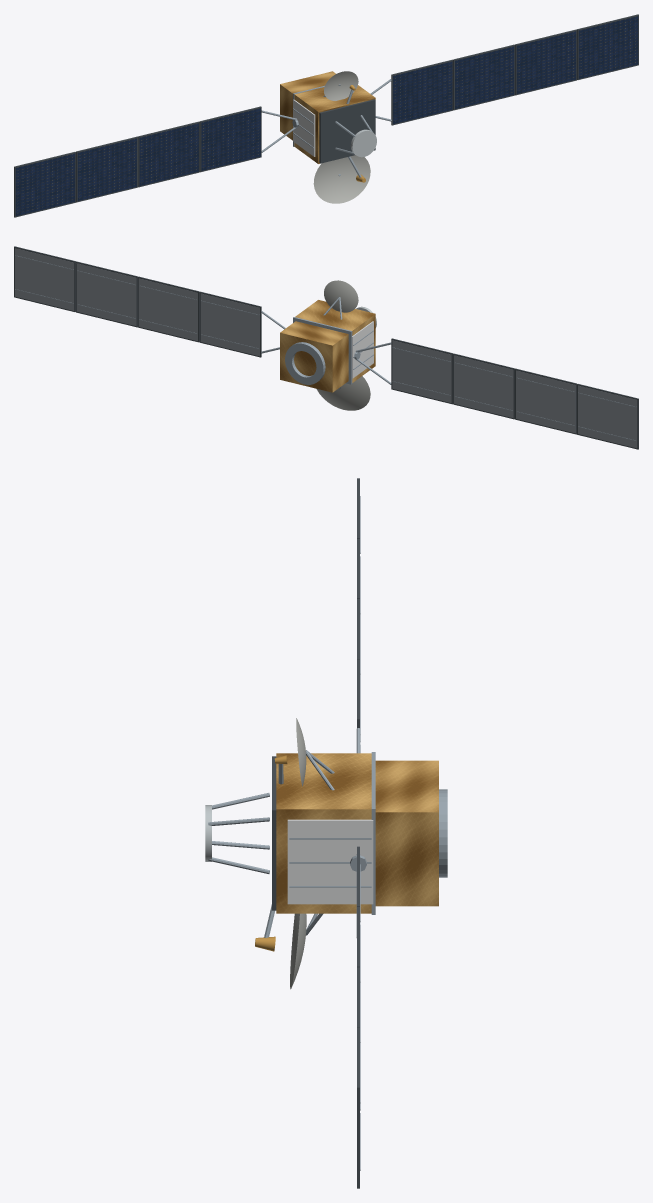
File: ssl-1300-intelsat-viia.glb
The picture shows the model from 3 angles, top to bottom: view 1: azimuth 30°, elevation 25°; view 2: azimuth 150°, elevation 25°; view 3: azimuth 270°, elevation 25°; orthographic projection. The views are drawn at different scales.
Parts seen in each view (by area): view 1: Solar cell panel (×8), Solar panel frame (×8), Communications reflector (×2), Earth-facing deck, Payload module, Service module, Radiator face, Antenna tower platform; view 2: Rear array substrate (×8), Solar panel frame (×8), Service module, Communications reflector (×2), Payload module, Launch adapter ring, Radiator face, Module interface; view 3: Service module, Payload module, Radiator face.
Part boxes in pixels (x1=…): Solar cell panel (×8): x1=15, y1=16, x2=638, y2=216; Solar panel frame (×8): x1=14, y1=14, x2=638, y2=217; Communications reflector (×2): x1=313, y1=71, x2=370, y2=203; Earth-facing deck: x1=319, y1=99, x2=375, y2=163; Payload module: x1=294, y1=85, x2=375, y2=163; Service module: x1=280, y1=71, x2=335, y2=140; Radiator face: x1=293, y1=99, x2=315, y2=156; Antenna tower platform: x1=350, y1=129, x2=376, y2=157; Rear array substrate (×8): x1=15, y1=248, x2=637, y2=448; Solar panel frame (×8): x1=14, y1=246, x2=638, y2=449; Service module: x1=280, y1=321, x2=348, y2=392; Communications reflector (×2): x1=316, y1=280, x2=370, y2=410; Payload module: x1=295, y1=300, x2=375, y2=382; Launch adapter ring: x1=285, y1=342, x2=325, y2=384; Radiator face: x1=352, y1=321, x2=373, y2=378; Module interface: x1=293, y1=317, x2=352, y2=384; Service module: x1=375, y1=760, x2=438, y2=906; Payload module: x1=276, y1=753, x2=371, y2=913; Radiator face: x1=287, y1=819, x2=373, y2=904.
Bounding box in the file's own units: 27.17 × 5.41 × 4.57.
Materials: 9 (2 with a texture image).
